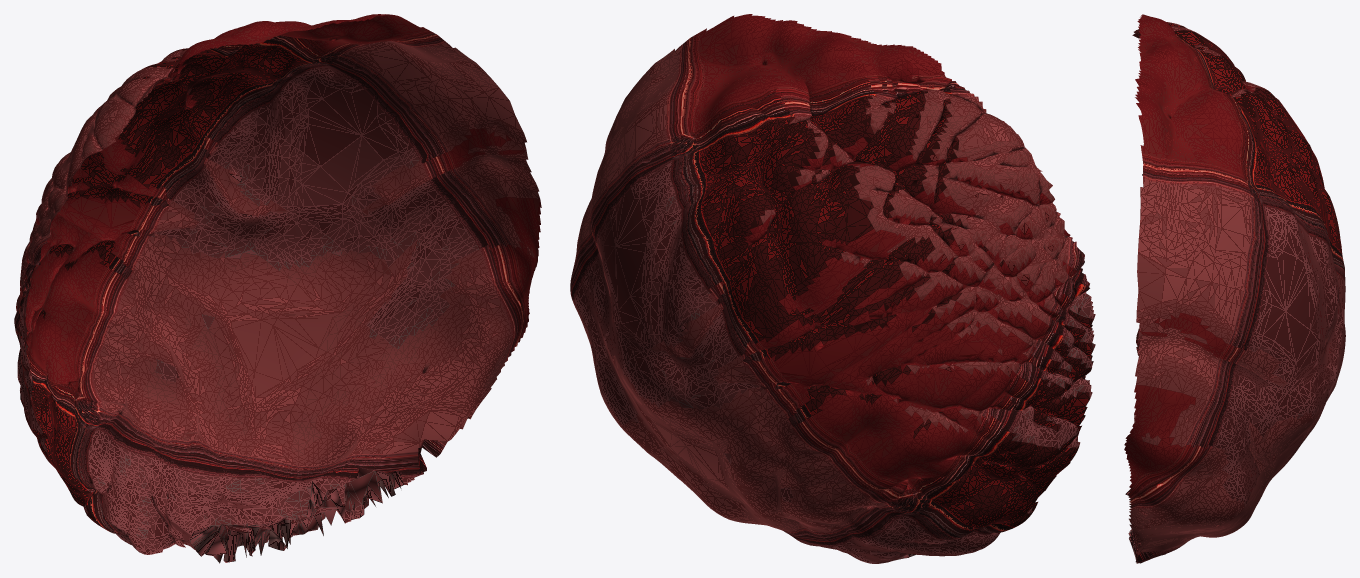
The model's file is cueva 2411.glb.
3 views of the same model, side by side, from view 1: azimuth 30°, elevation 25°; view 2: azimuth 150°, elevation 25°; view 3: azimuth 270°, elevation 25° (orthographic). The views are drawn at different scales.
Visible parts, largest first — view 1: Sphere; view 2: Sphere; view 3: Sphere.
Part boxes in pixels (x1,y1,x2,y2): Sphere: [14, 14, 541, 563]; Sphere: [570, 14, 1095, 563]; Sphere: [1124, 14, 1345, 563].
Bounding box in the file's own units: 20.03 × 19.43 × 7.98.
1 material, 1 textured.
